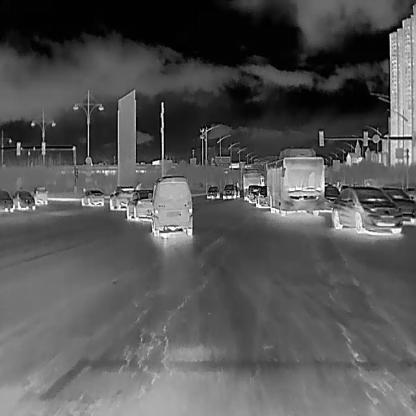bus: (266, 146, 322, 216), (242, 170, 264, 199)
car: (331, 184, 403, 233), (152, 176, 191, 236), (380, 187, 416, 225), (127, 188, 152, 219), (108, 184, 132, 210), (78, 188, 104, 208), (12, 190, 35, 210), (324, 184, 340, 209), (31, 185, 48, 206), (0, 189, 14, 212), (223, 182, 240, 197), (256, 186, 267, 208), (248, 184, 259, 203), (206, 184, 218, 198)
